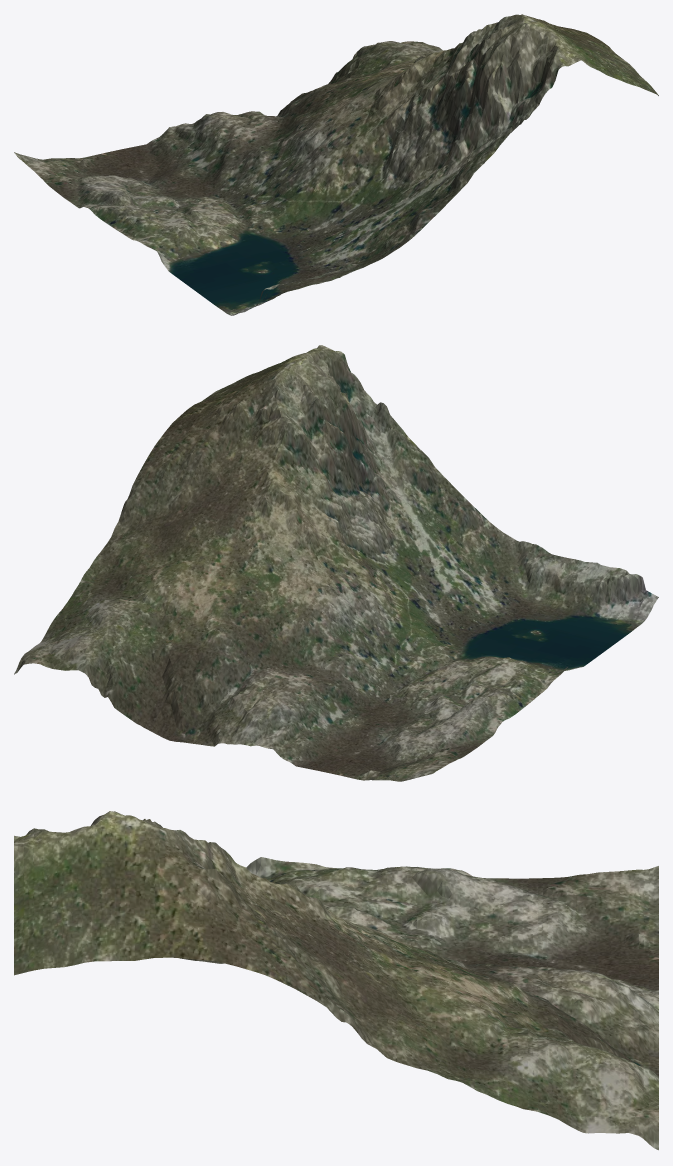
The picture shows the model from 3 angles, top to bottom: view 1: azimuth 30°, elevation 25°; view 2: azimuth 150°, elevation 25°; view 3: azimuth 270°, elevation 25°; orthographic projection. The views are drawn at different scales.
Bounding box in the file's own units: 1000 × 518 × 963.
1 material, 1 textured.
